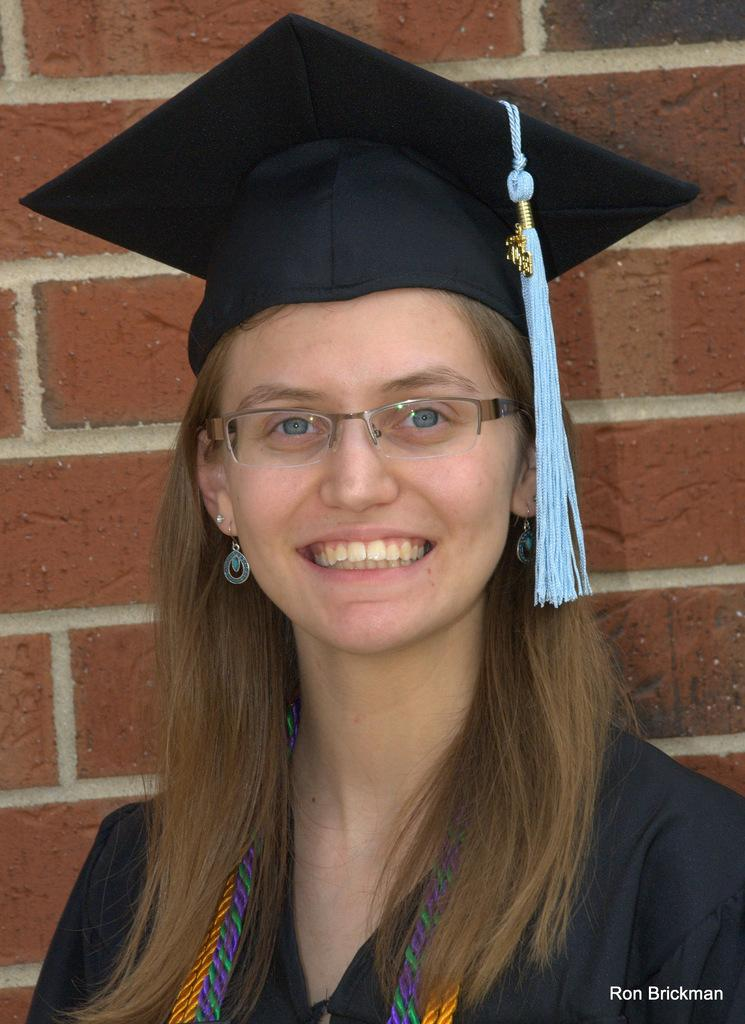Hat: (14, 8, 700, 610)
